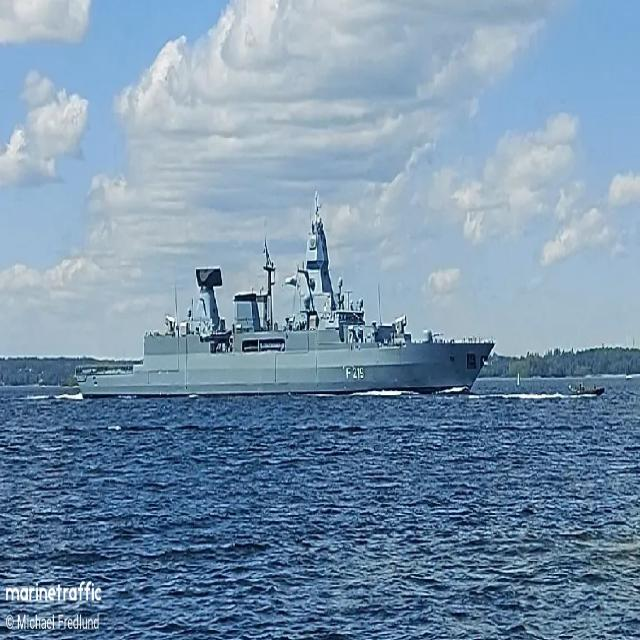Military: (76, 193, 494, 396)
